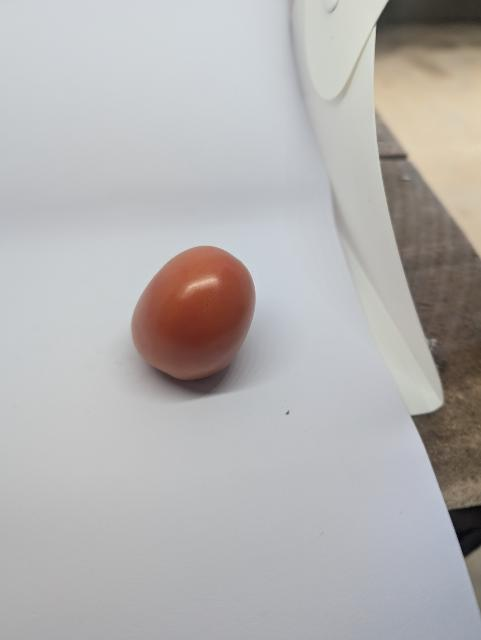red: (129, 243, 258, 384)
